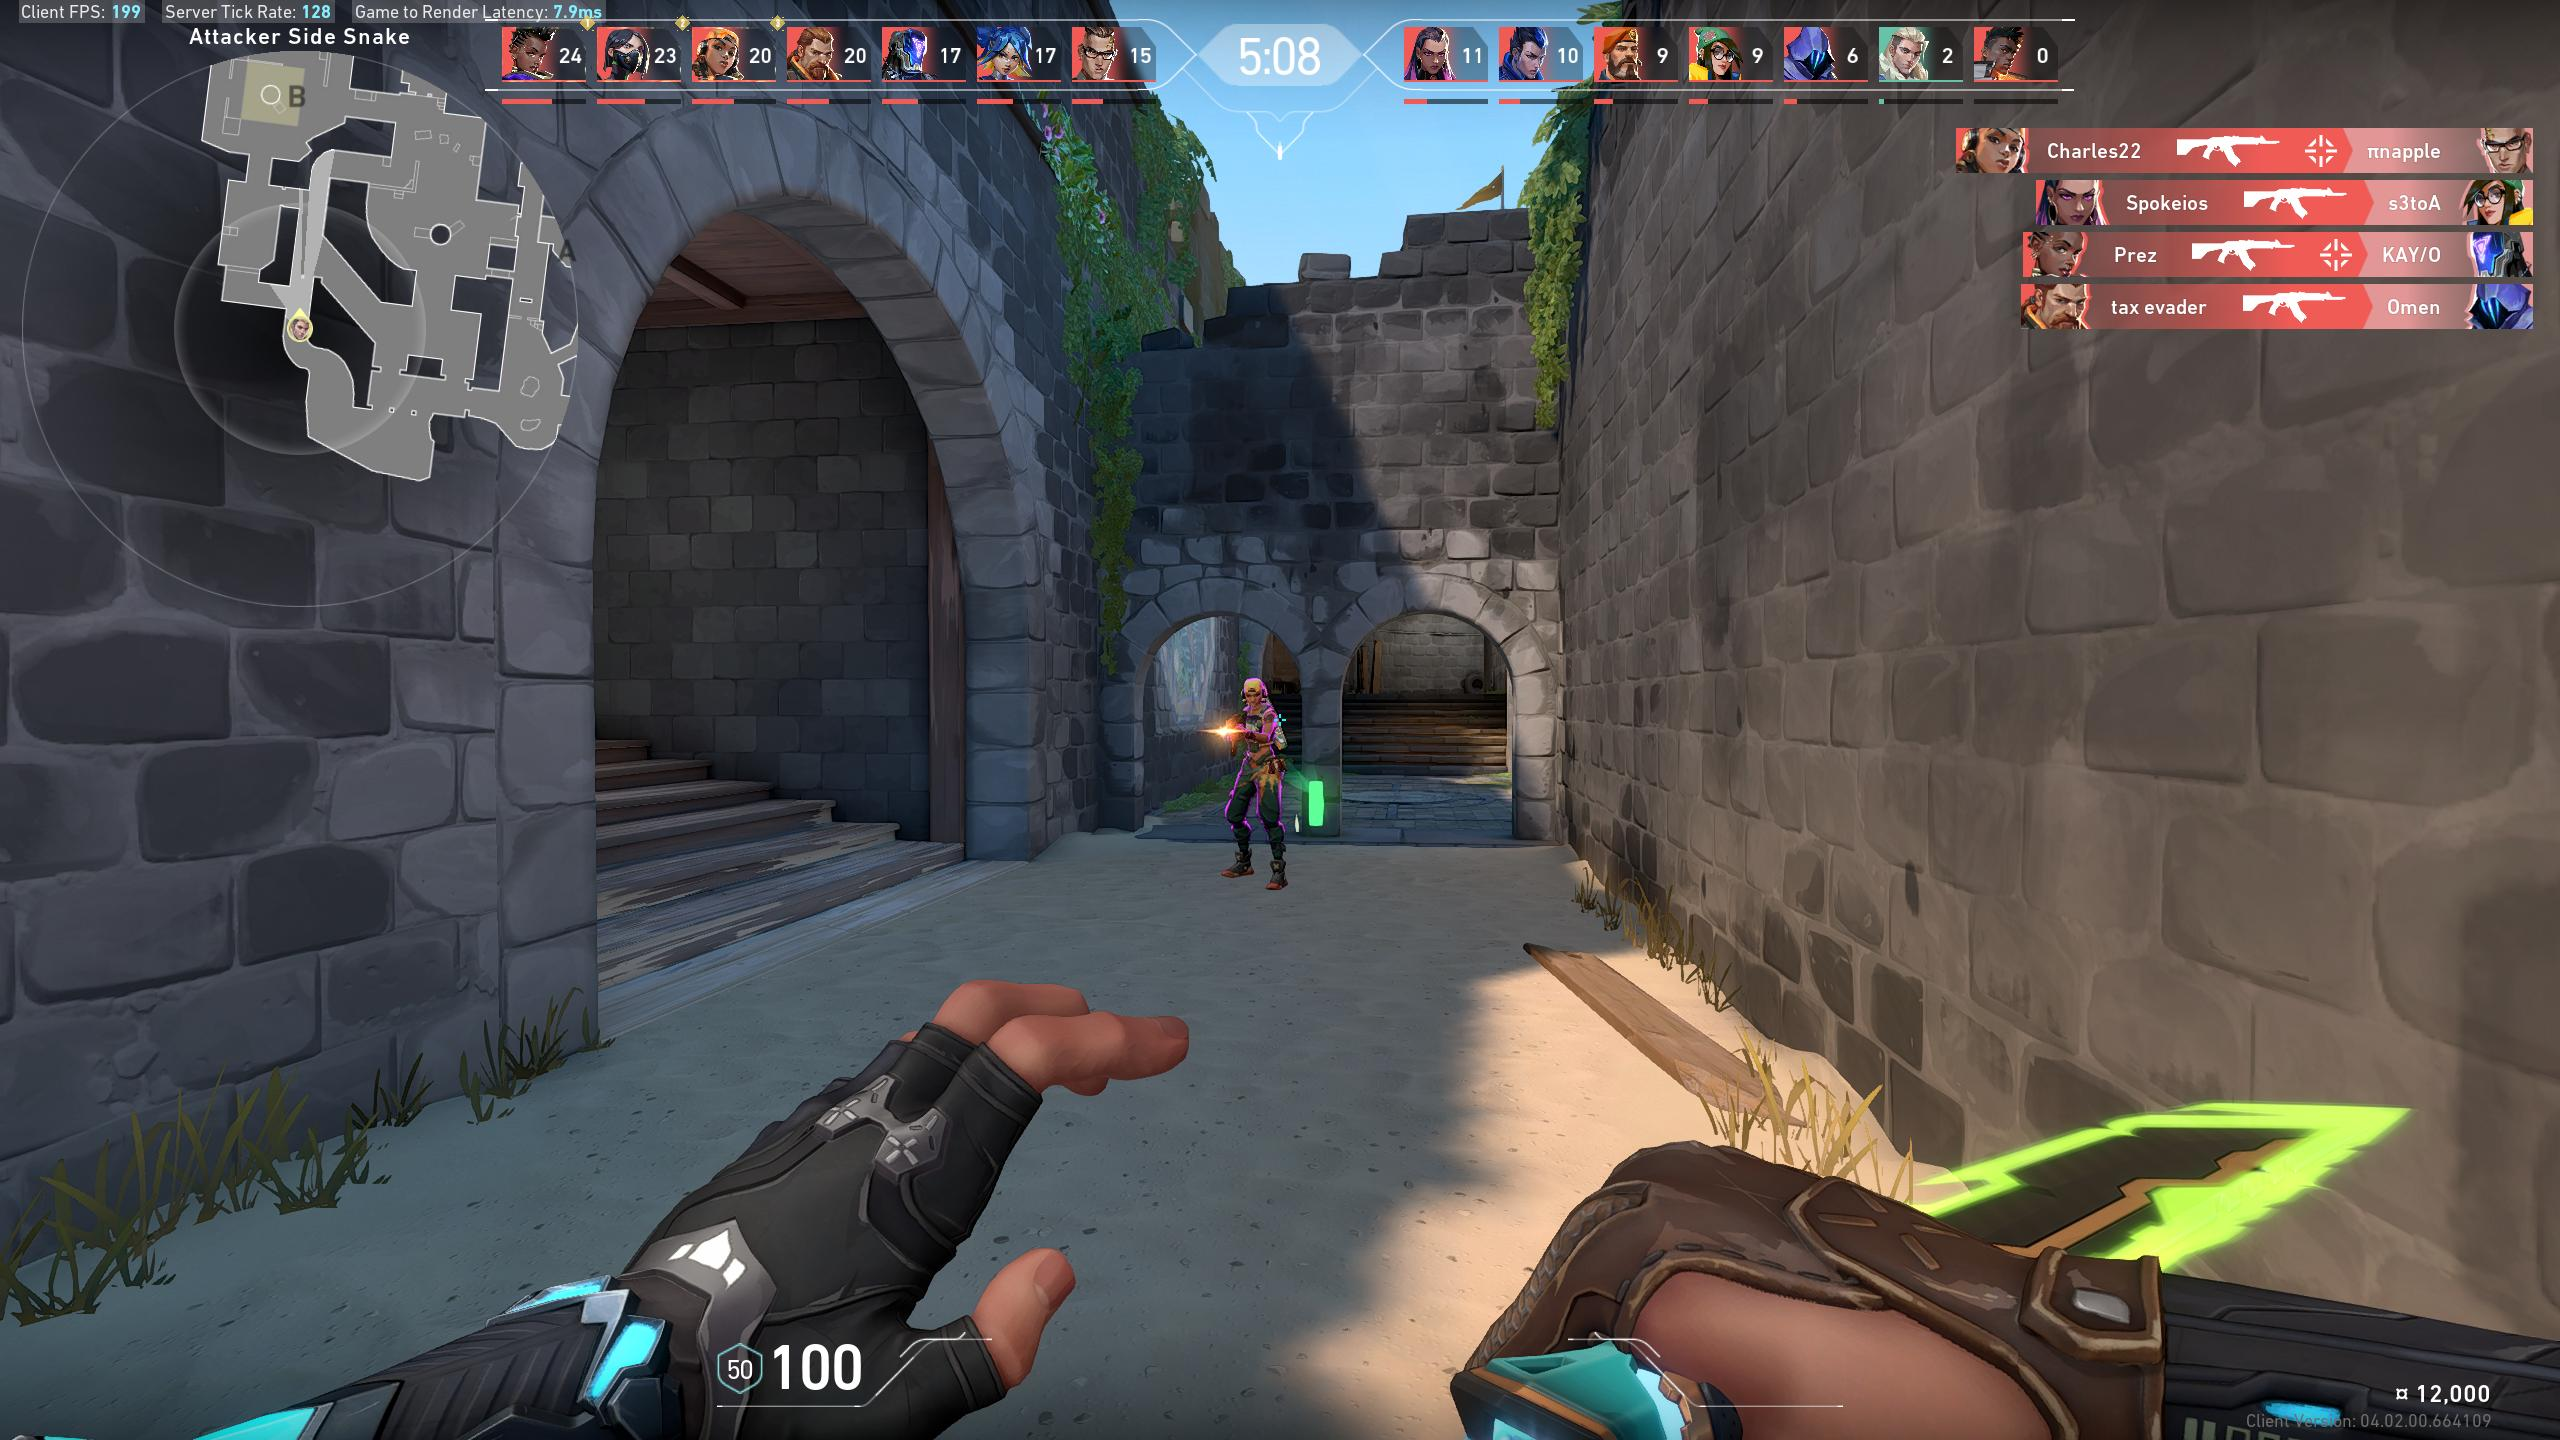enemyBody: (1245, 710, 1269, 751)
enemyHead: (1245, 682, 1262, 707)
